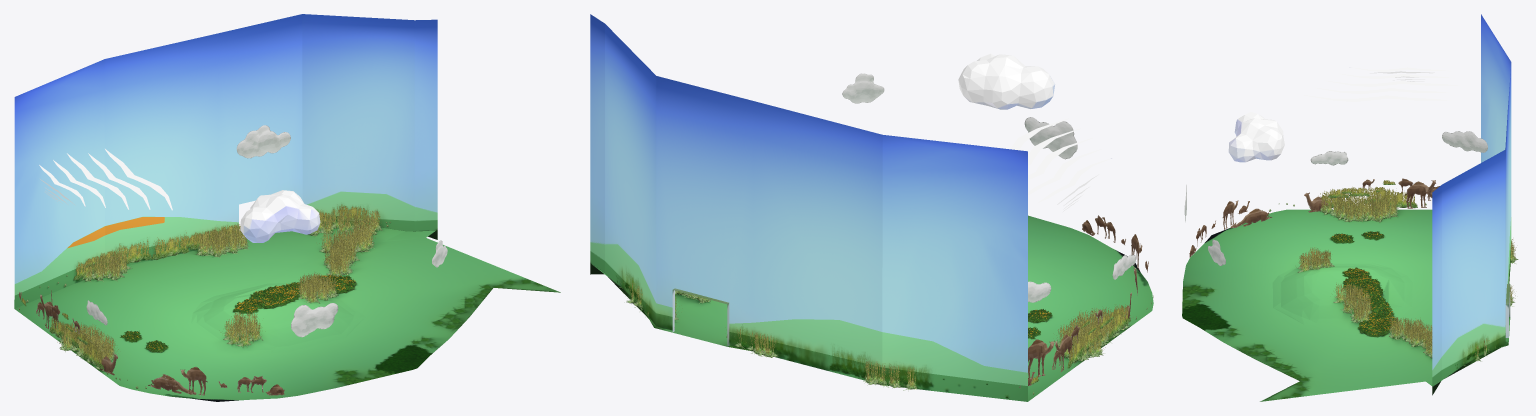
3 views of the same model, side by side, from view 1: azimuth 30°, elevation 25°; view 2: azimuth 150°, elevation 25°; view 3: azimuth 270°, elevation 25° (orthographic). The views are drawn at different scales.
Parts seen in each view (by area): view 1: camel-stickers.baked; view 2: camel-stickers.baked; view 3: camel-stickers.baked.
Boxes of the visible parts, x1=… form: camel-stickers.baked: x1=14, y1=14, x2=560, y2=401; camel-stickers.baked: x1=590, y1=14, x2=1153, y2=401; camel-stickers.baked: x1=1182, y1=14, x2=1518, y2=401.
Bounding box in the file's own units: 28.86 × 13.83 × 20.94.
12 materials, 12 textured.
